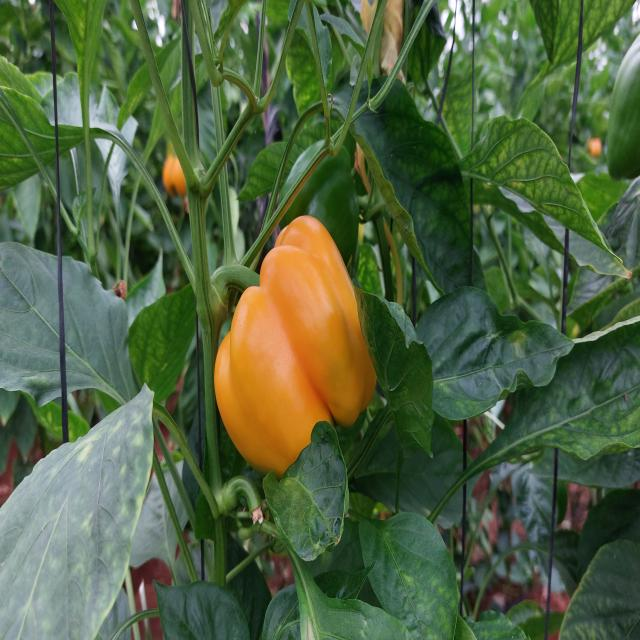Yellow-Ready-to-Harvest: (203, 221, 385, 489)
